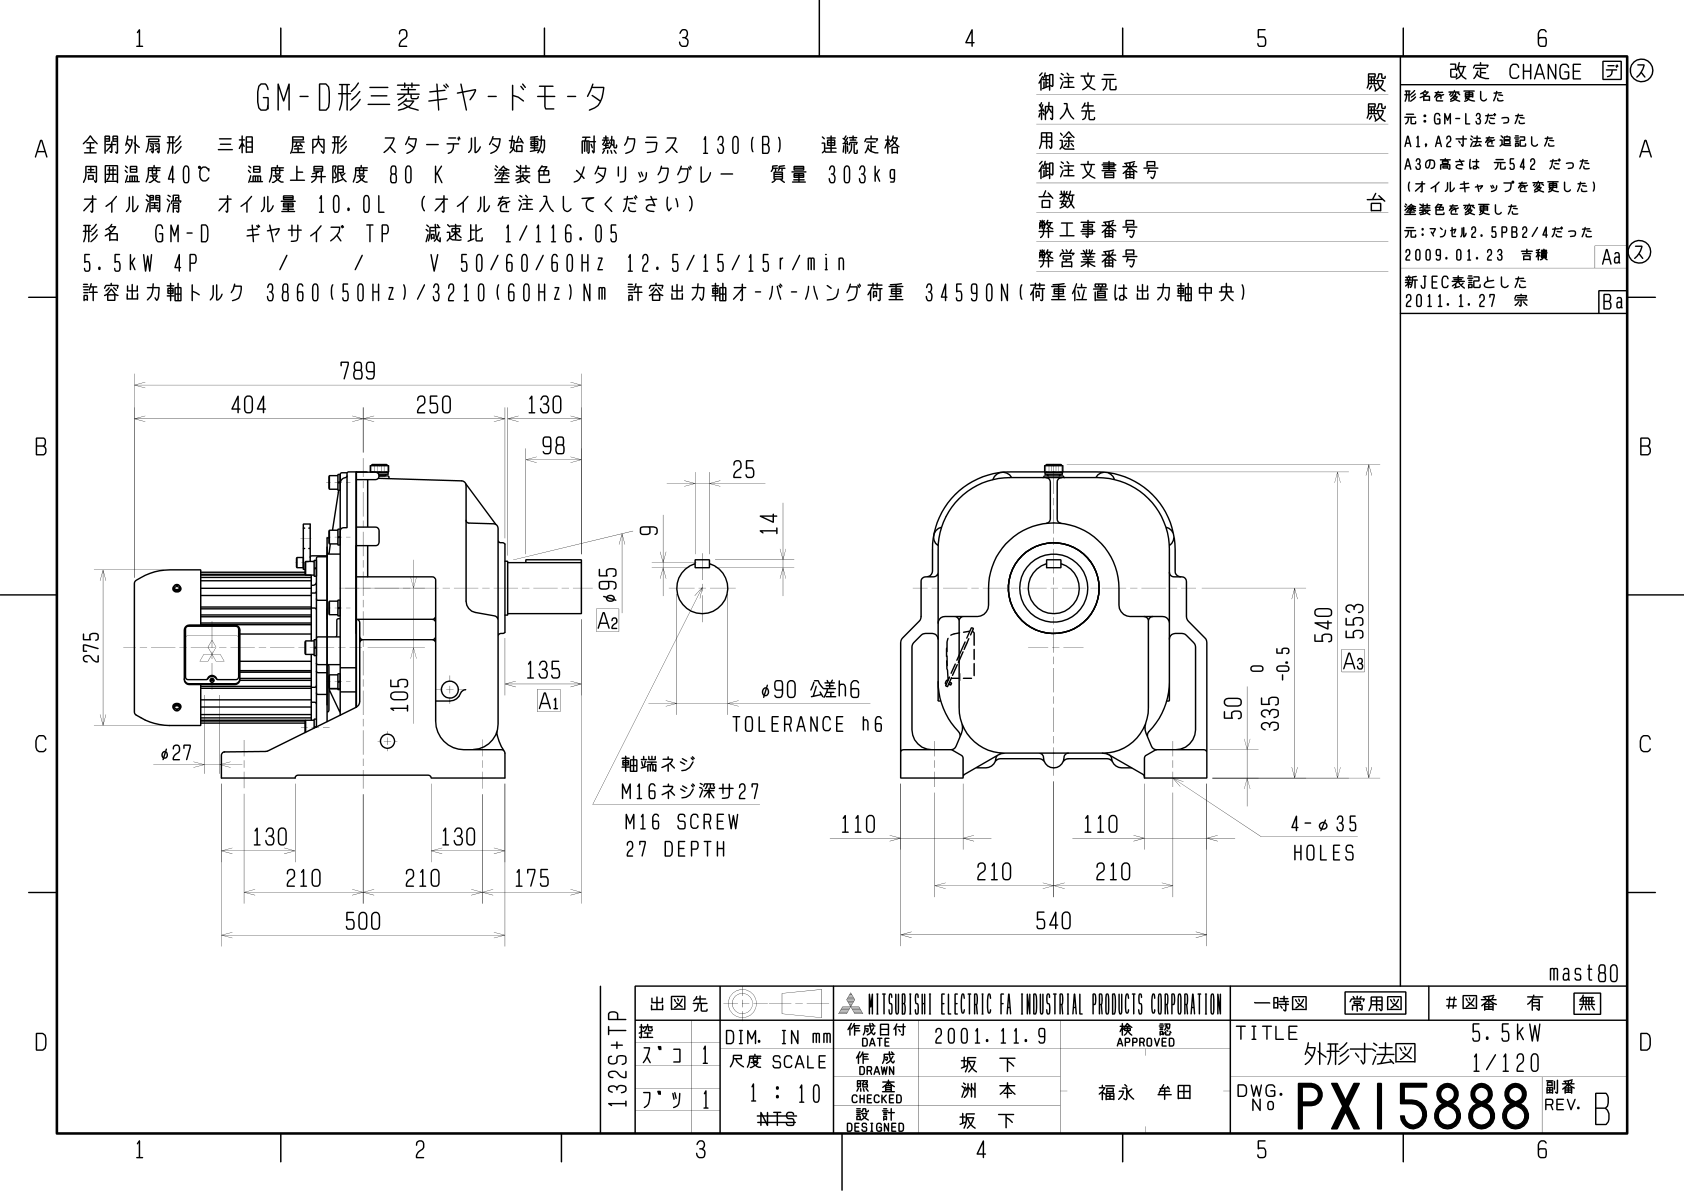GM_D_屋内＿三相_脚: (77, 333, 1399, 969)
